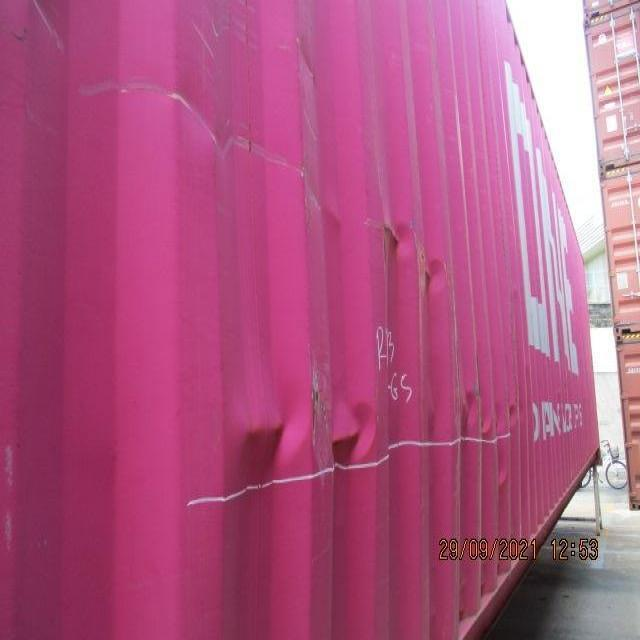Dent: (216, 343, 529, 523)
Minor-Dent: (363, 199, 456, 308)
